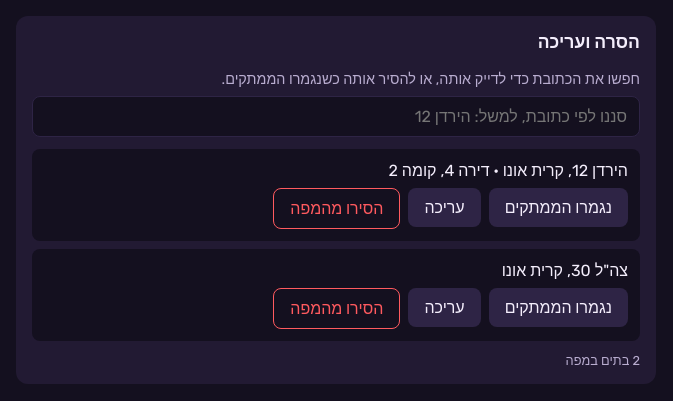
Scenario: HouseList › says when nothing matches
Type "רחוב אחר" into the dropdown named "חפשו כתובת". click: (336, 116)
box: [32,96,640,137]
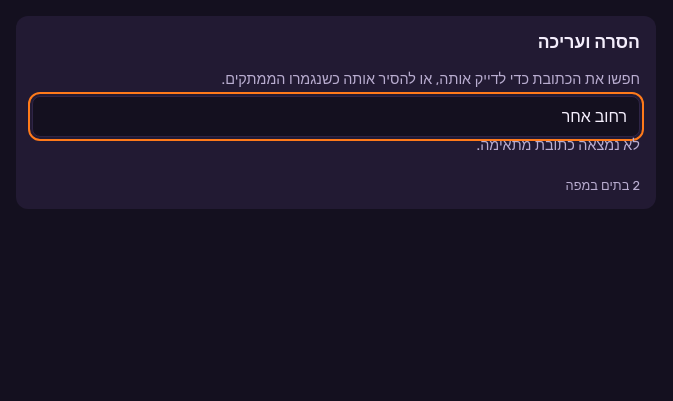
Expected: the text "לא נמצאה כתובת מתאימה." is shown, [476,137,640,154]
